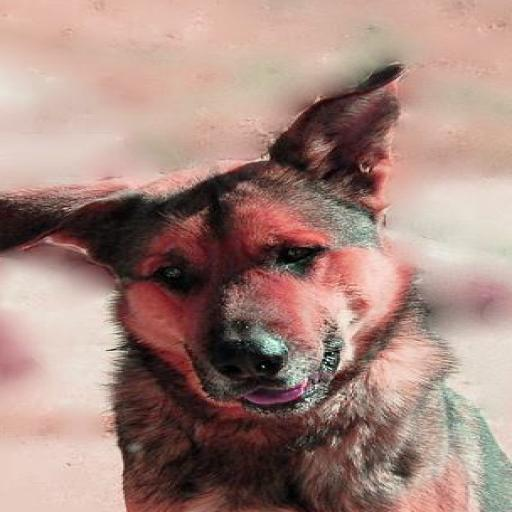dog_face: (0, 84, 435, 414)
